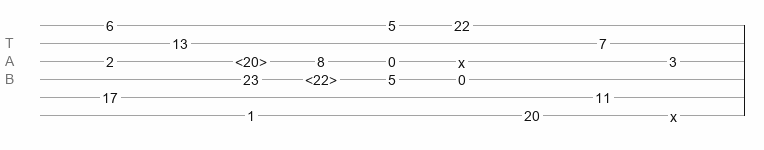0: (388, 54, 396, 64), (458, 72, 466, 82)
1: (247, 108, 255, 118)
11: (595, 90, 611, 100)
13: (172, 36, 188, 46)
17: (102, 90, 118, 100)
2: (106, 54, 114, 64)
20: (524, 108, 540, 118)
22: (454, 18, 470, 28)
23: (243, 72, 259, 82)
3: (669, 54, 677, 64)
5: (388, 18, 396, 28), (388, 72, 396, 82)
6: (106, 18, 114, 28)
7: (599, 36, 607, 46)
8: (317, 54, 325, 64)
harmonic: (235, 54, 267, 64), (305, 72, 337, 82)
x: (458, 55, 465, 63), (670, 109, 677, 117)
